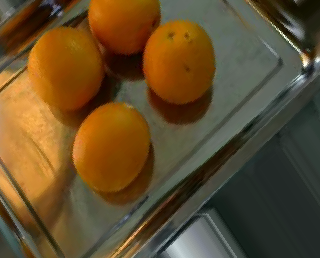Orange: (72, 99, 152, 192), (26, 26, 103, 109), (142, 21, 215, 103)
